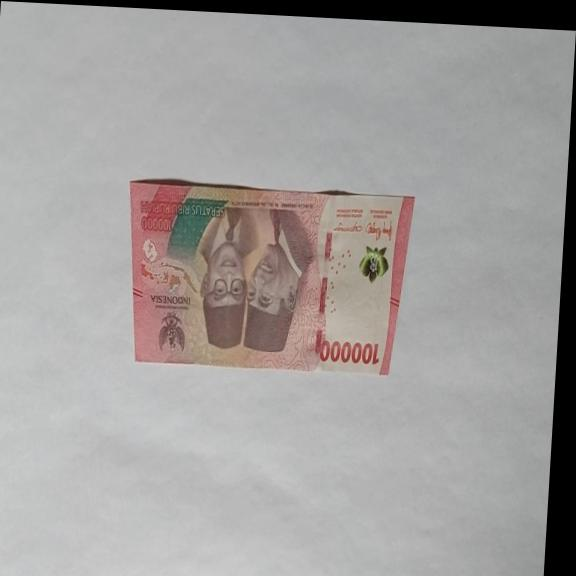Kertas: (117, 177, 414, 379), (317, 338, 380, 368)
